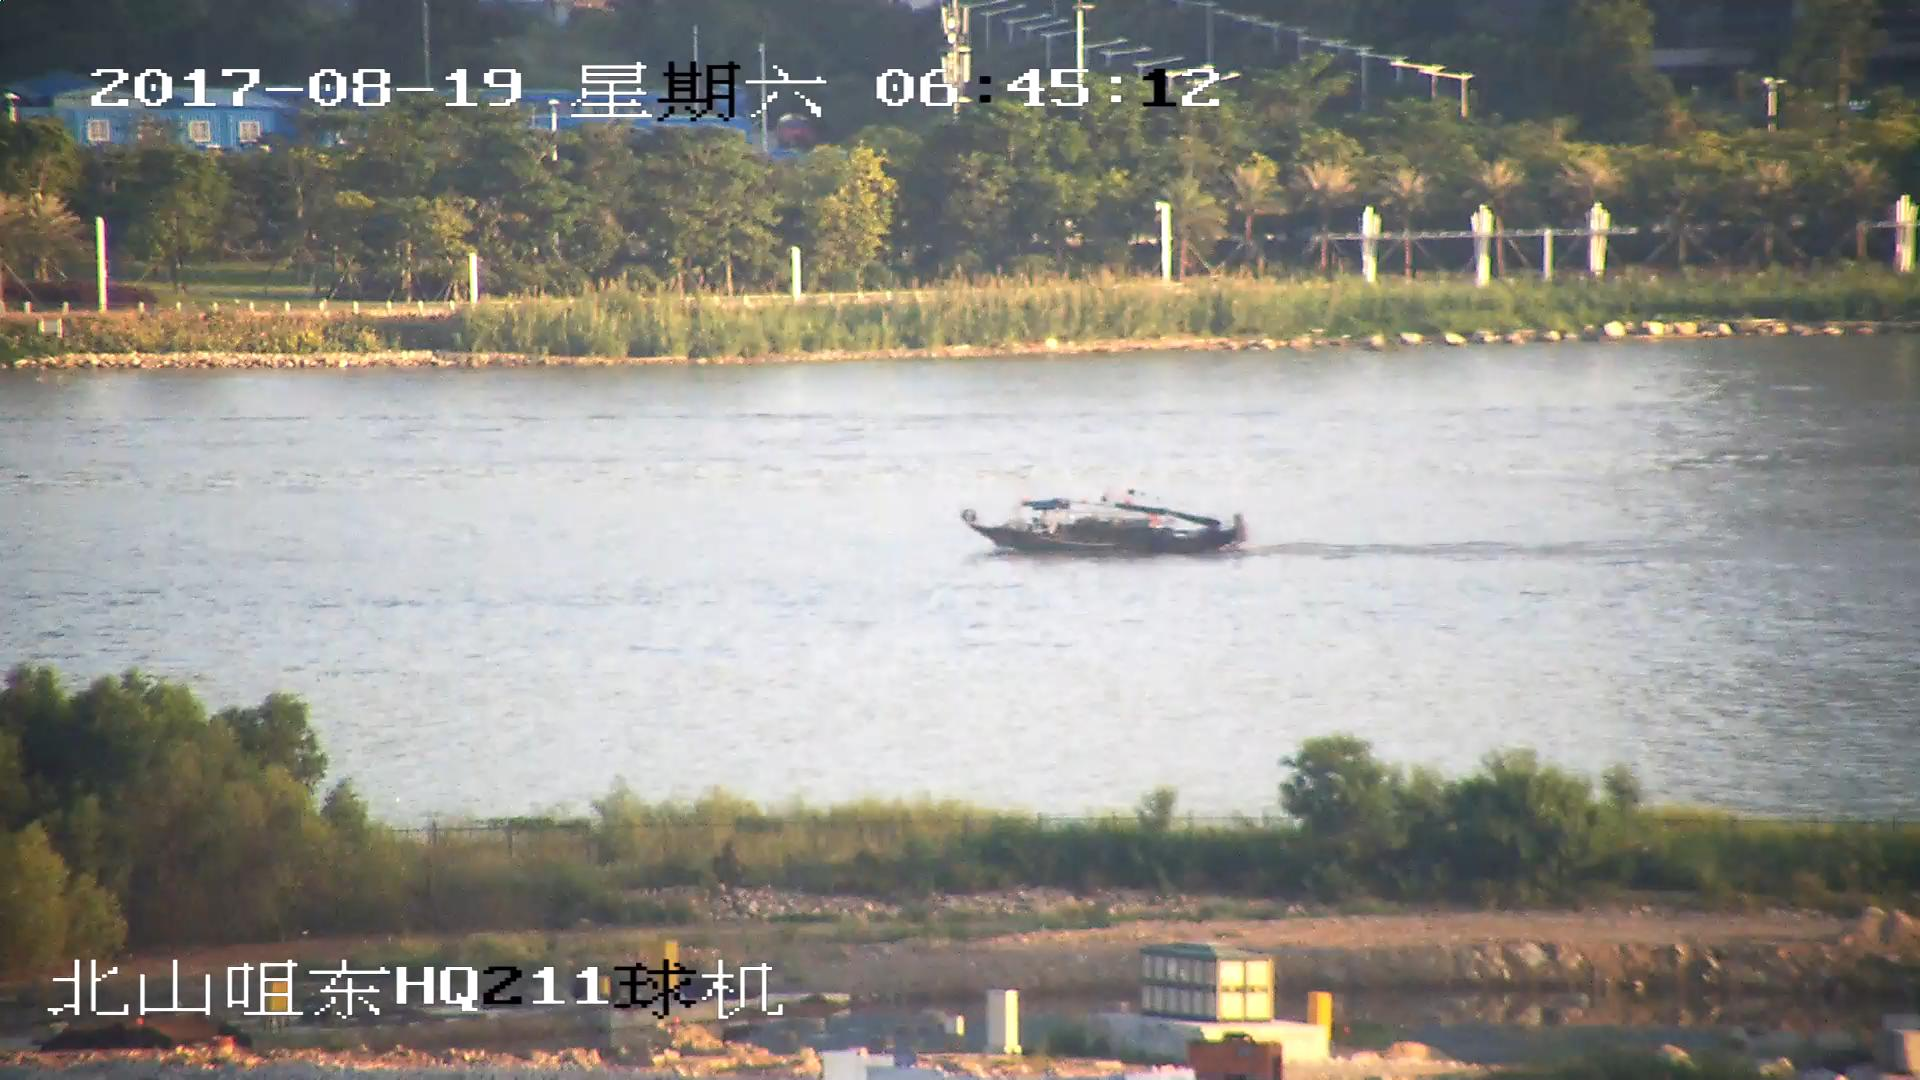fishing boat: (963, 486, 1249, 558)
